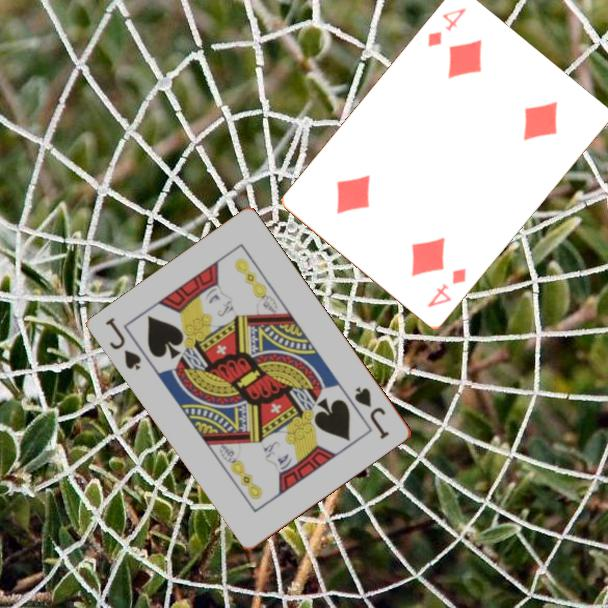d04: (423, 265, 469, 311), (424, 5, 469, 50)
s11: (102, 314, 145, 373), (351, 383, 393, 442)
